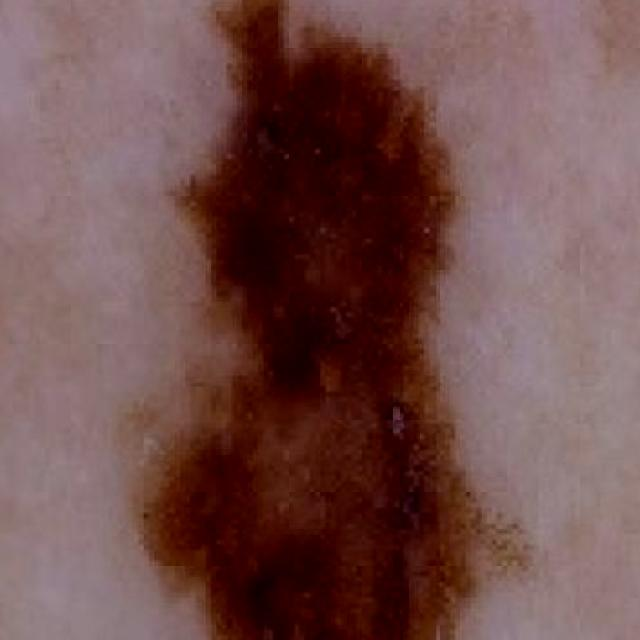MEL: (0, 0, 584, 640)
